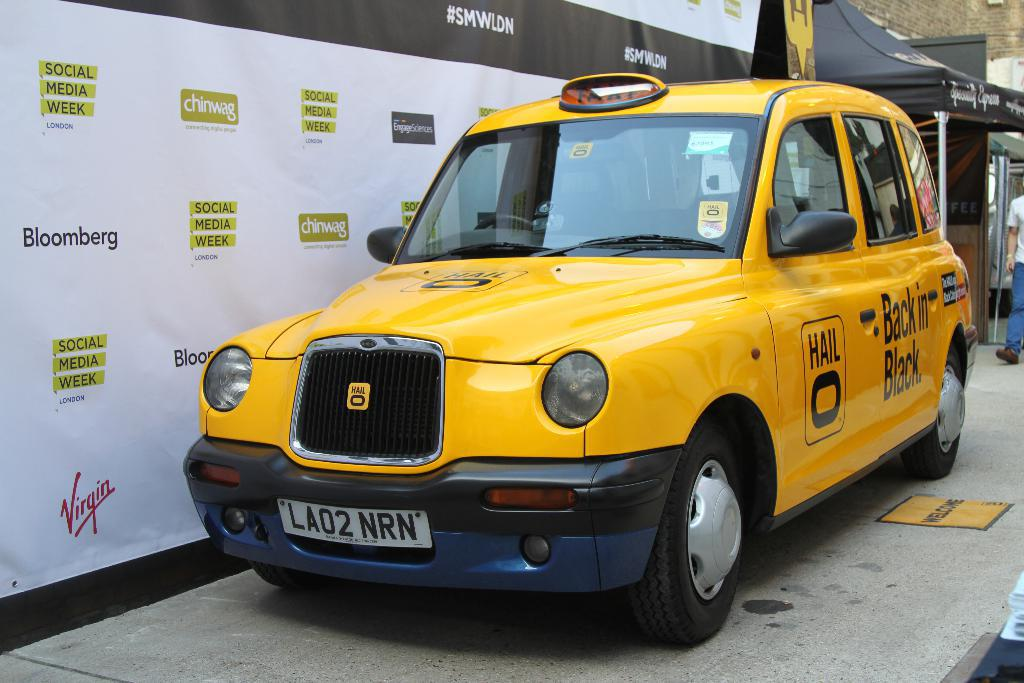taxi: (185, 74, 980, 646)
